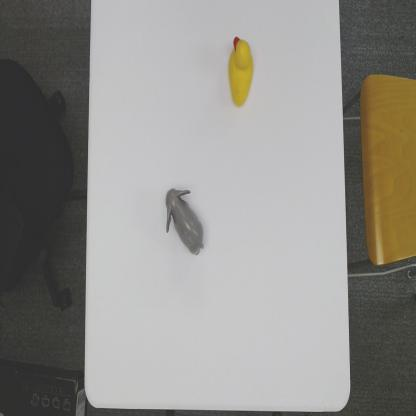Duck: (228, 33, 254, 109)
Elephant: (164, 184, 206, 258)
